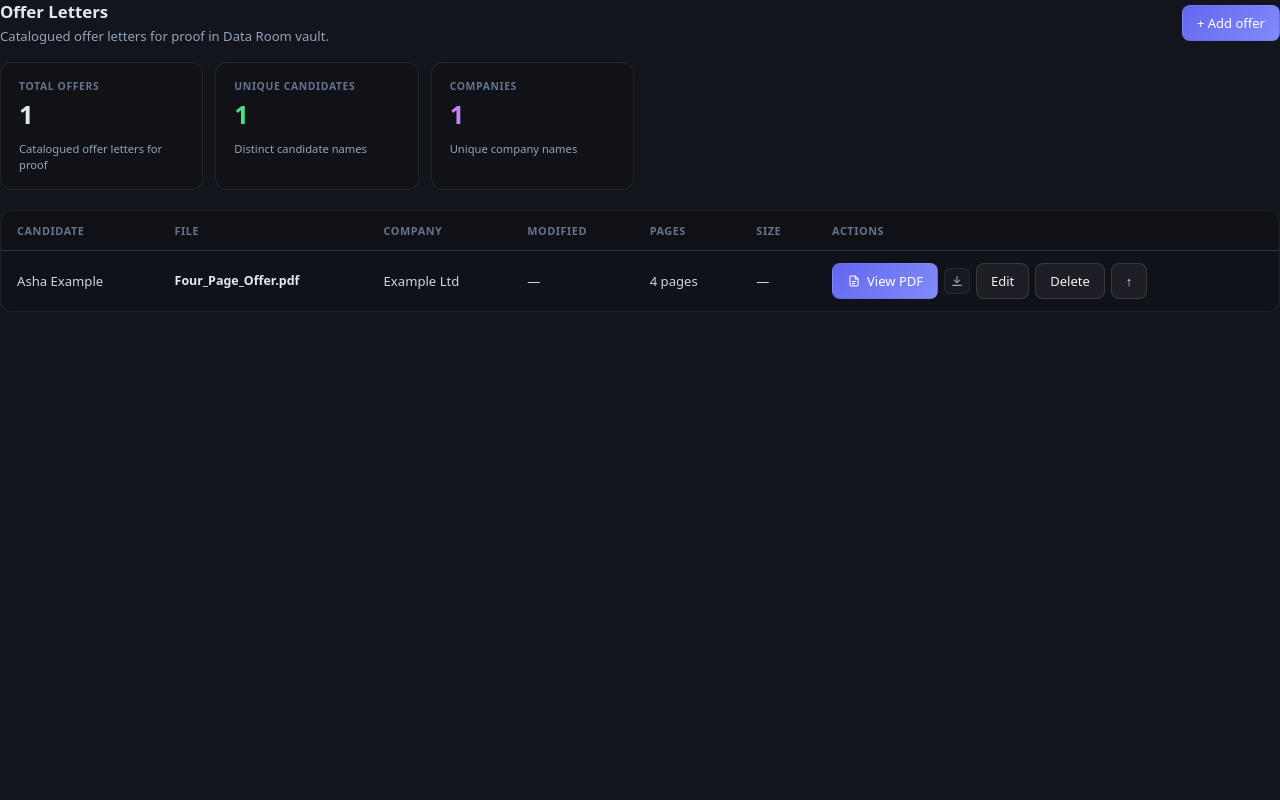
Test: the page count › shows Page 1 of 4, and previous and next move through the pages
Click the button with aria-label "View PDF for Asha Example" at [885, 280], box [832,262,938,298]
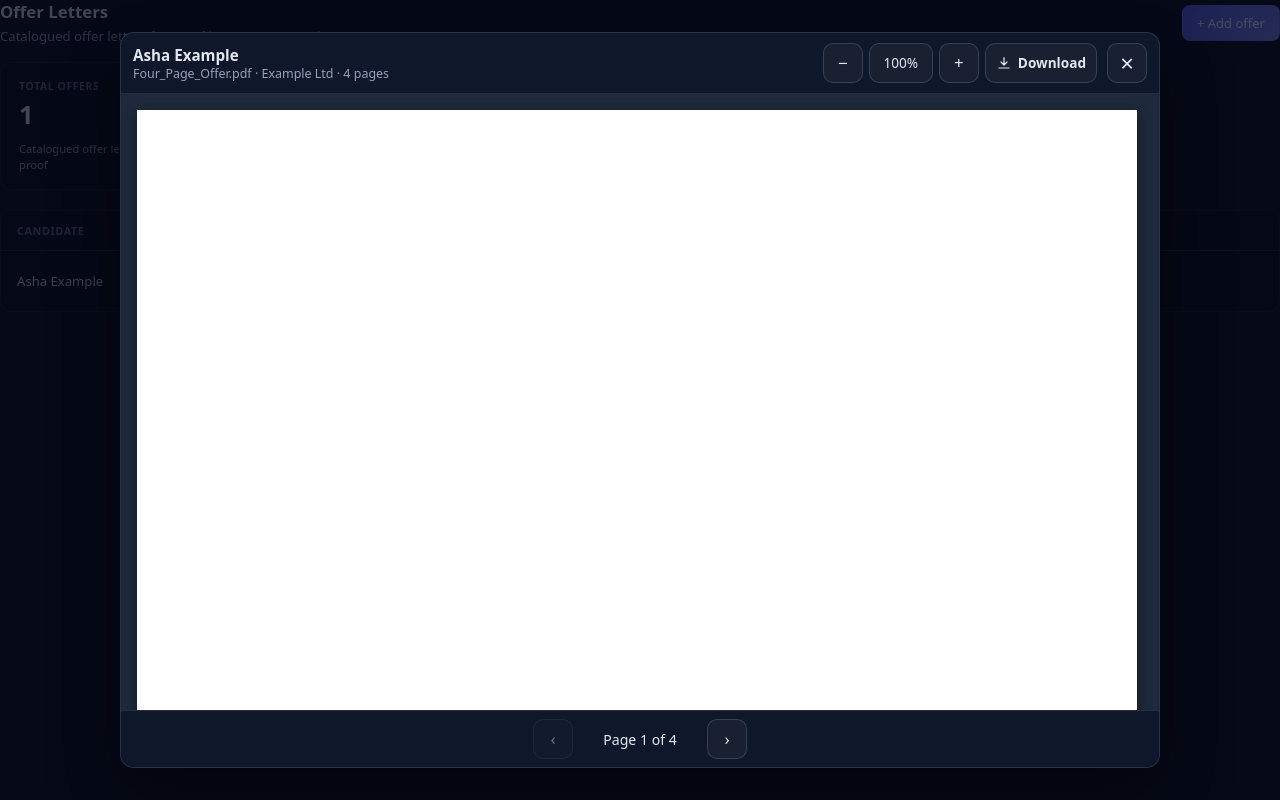
expect the button named "Previous page" is disabled: met, box [533,719,573,759]
expect the dialog "Example" shows "Four_Page_Offer.pdf · Example Ltd · 4 pages": met, box [133,64,389,82]
expect the text with class "offer-preview__page-of" reads "Page 1 of 4": met, box [603,730,677,748]
Click the button named "Next page" at [727, 739], box [707,719,747,759]
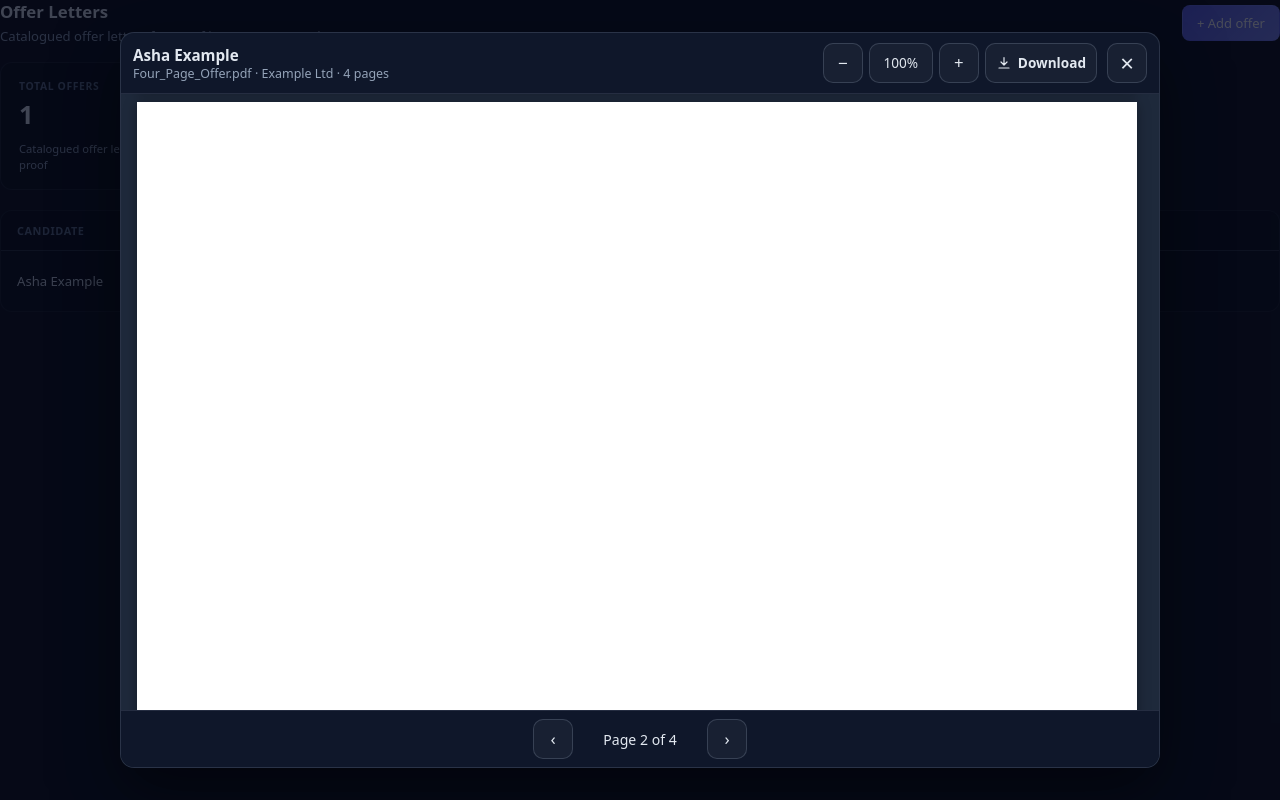
expect the text with class "offer-preview__page-of" reads "Page 2 of 4": met, box [603,730,677,748]
Click the button named "Next page" at [727, 739], box [707,719,747,759]
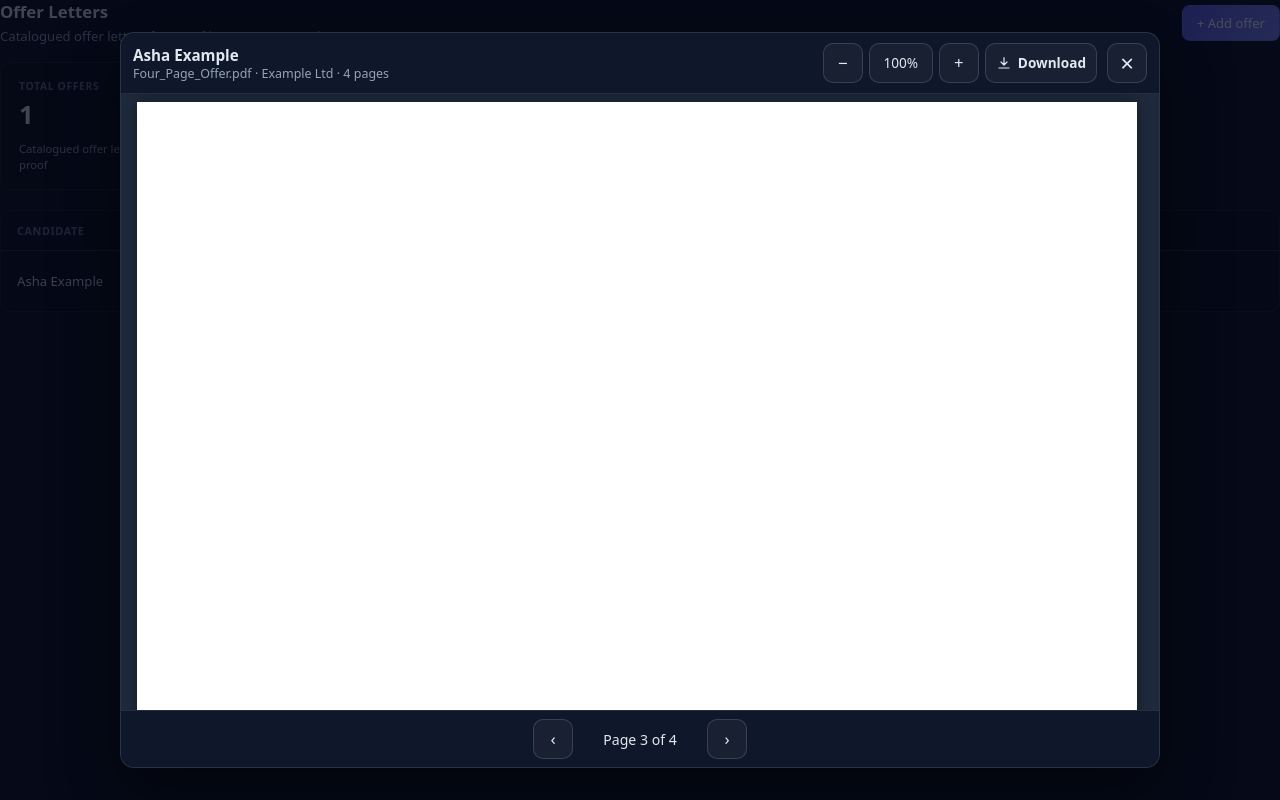
Click the button named "Next page" at [727, 739], box [707,719,747,759]
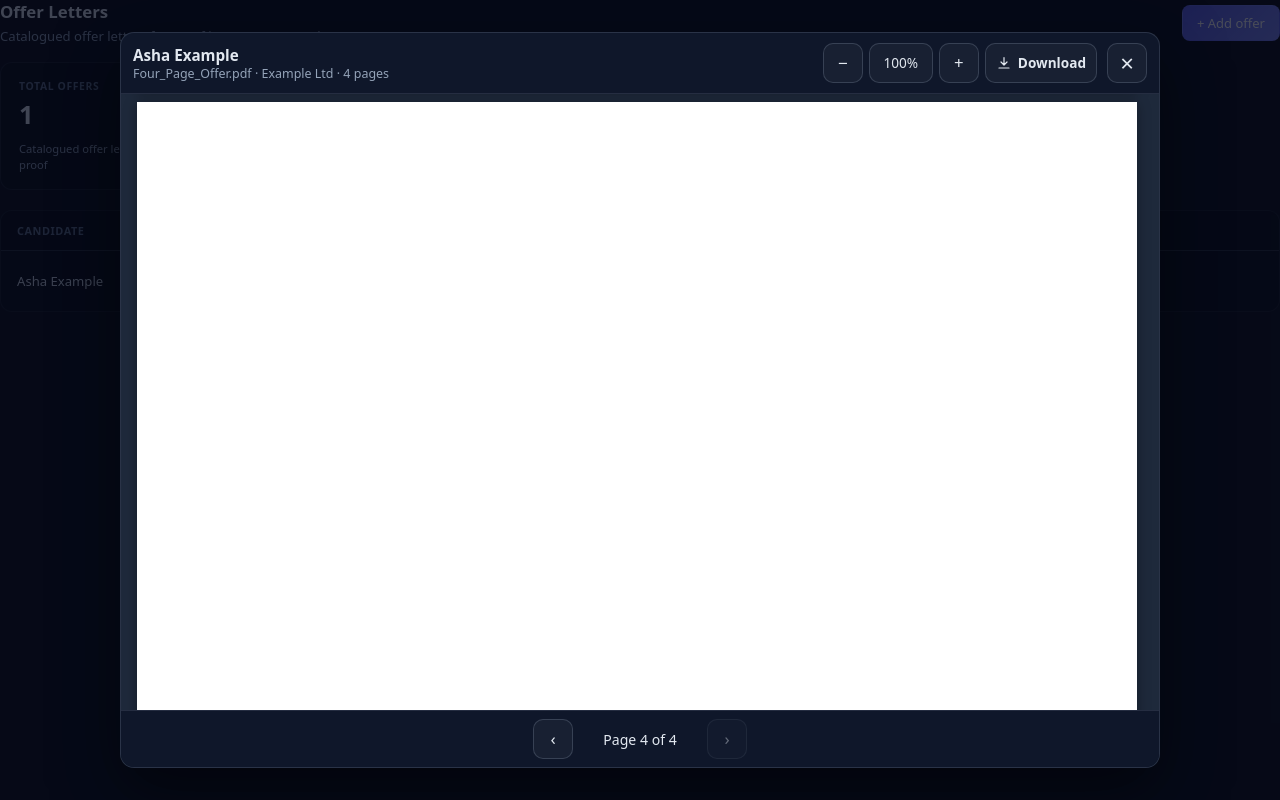
expect the text with class "offer-preview__page-of" reads "Page 4 of 4": met, box [603,730,677,748]
Click the button named "Previous page" at [553, 739], box [533,719,573,759]
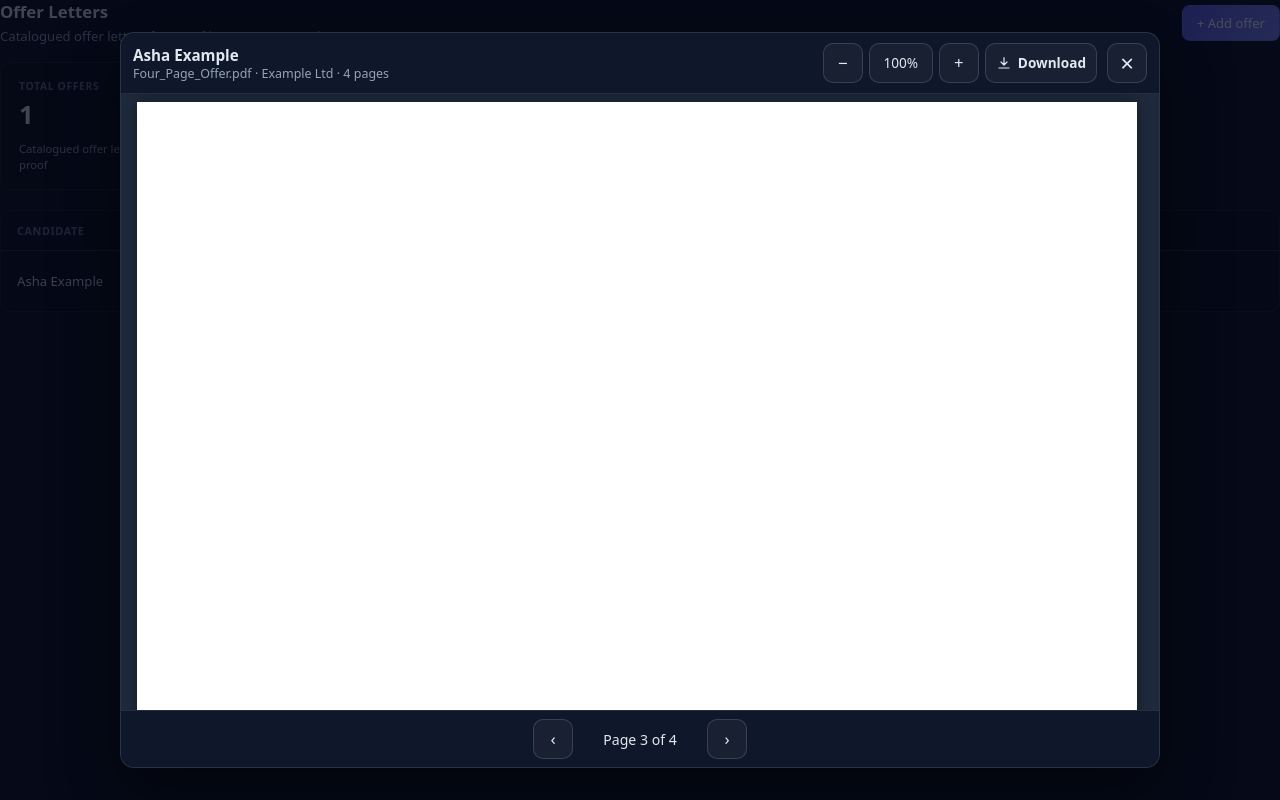
expect the text with class "offer-preview__page-of" reads "Page 3 of 4": met, box [603,730,677,748]
